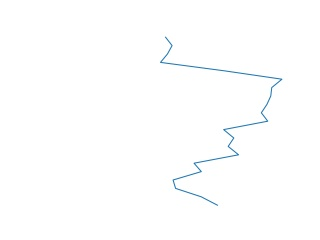floodPlain: (159, 35, 284, 209)
